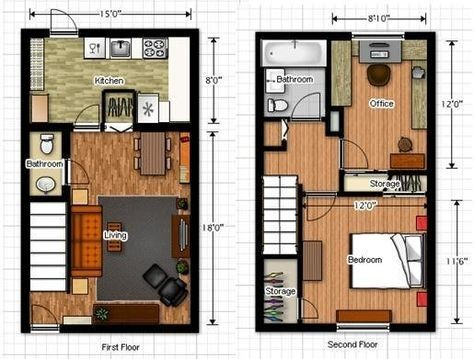door: (284, 91, 322, 124), (305, 191, 340, 225), (341, 134, 372, 170), (46, 7, 80, 39), (28, 303, 61, 335), (73, 96, 102, 132), (293, 294, 323, 322)
room: (15, 121, 198, 335), (260, 183, 436, 335), (16, 23, 202, 132), (328, 26, 441, 197)
wall: (252, 30, 267, 331), (18, 26, 31, 334), (425, 38, 438, 334), (188, 38, 199, 334), (77, 26, 201, 40), (258, 27, 352, 42), (58, 323, 191, 333), (324, 38, 333, 134), (262, 321, 336, 332), (28, 120, 76, 134), (136, 122, 190, 134), (388, 320, 424, 334), (401, 29, 436, 43), (339, 190, 383, 200), (30, 193, 73, 202), (61, 133, 72, 159)
window: (251, 26, 345, 193), (351, 25, 404, 40), (336, 322, 390, 334)
